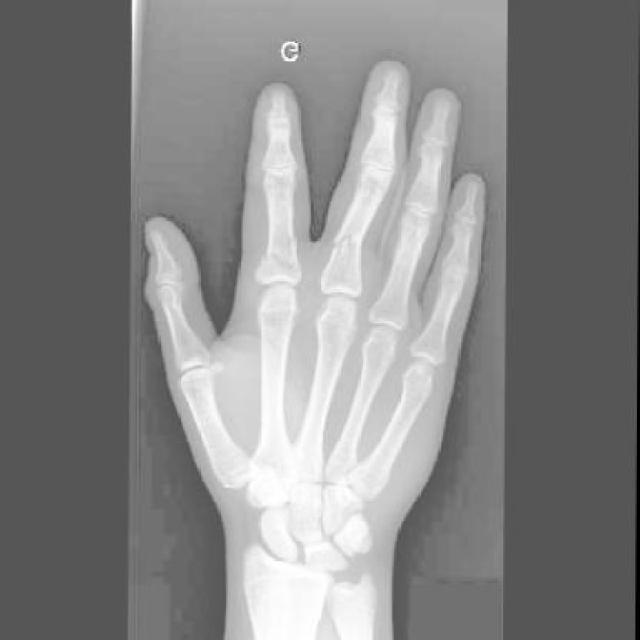Fracture: (263, 230, 304, 273), (334, 229, 365, 257)
